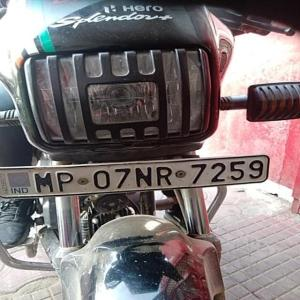Plate: (0, 156, 267, 195)
